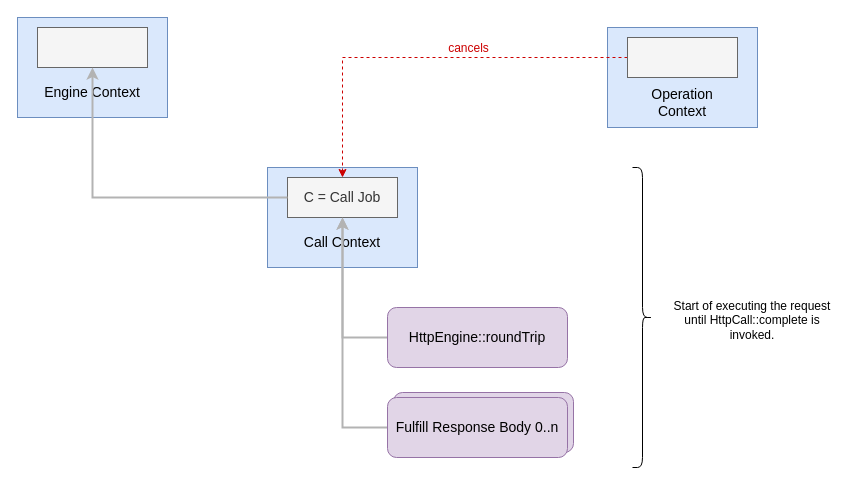
Image size: 855x485. Some labels were removed from this diagram. Here are the shapes that lost their labels. From the top down, the centre of each, then its label:
the point at 92,47: E = Engine Job
the point at 682,57: O = Operation Job
